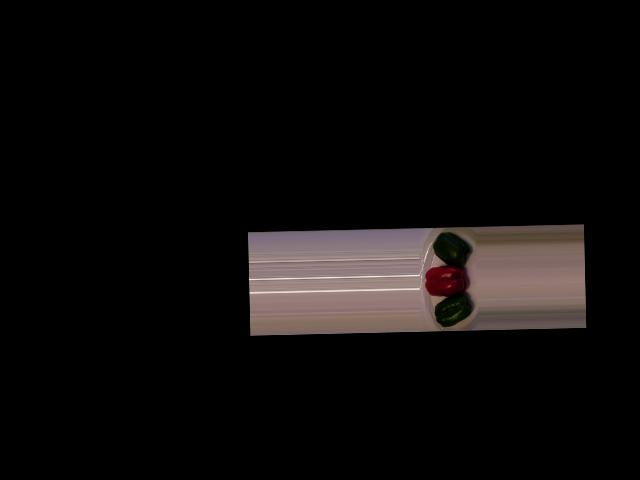bell_pepper: (428, 229, 473, 267)
